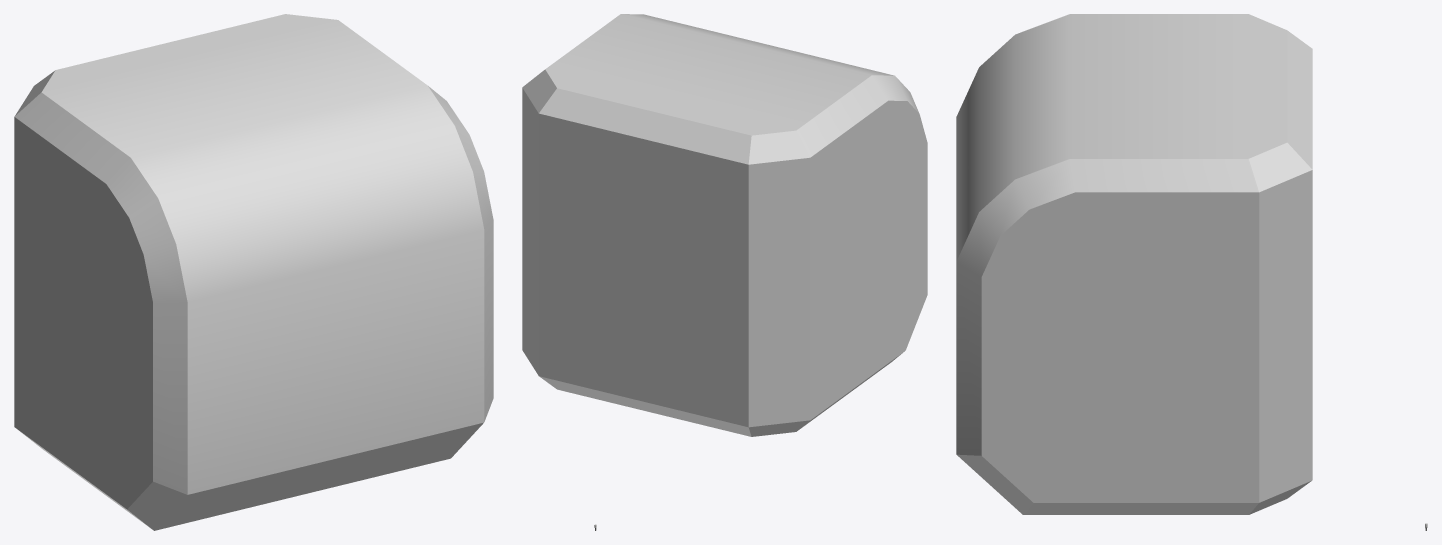
The model's file is TankGun01.fbx.
3 renders of one model, left to right at view 1: azimuth 30°, elevation 25°; view 2: azimuth 150°, elevation 25°; view 3: azimuth 270°, elevation 25°, orthographic. The views are drawn at different scales.
Visible parts, largest first — view 1: Cube.002; view 2: Cube.002; view 3: Cube.002.
Boxes of the visible parts, x1,y1,x2,y2 form: Cube.002: (14,14,493,530); Cube.002: (522,14,927,436); Cube.002: (956,14,1312,514).
Bounding box in the file's own units: 101 × 126 × 121.
